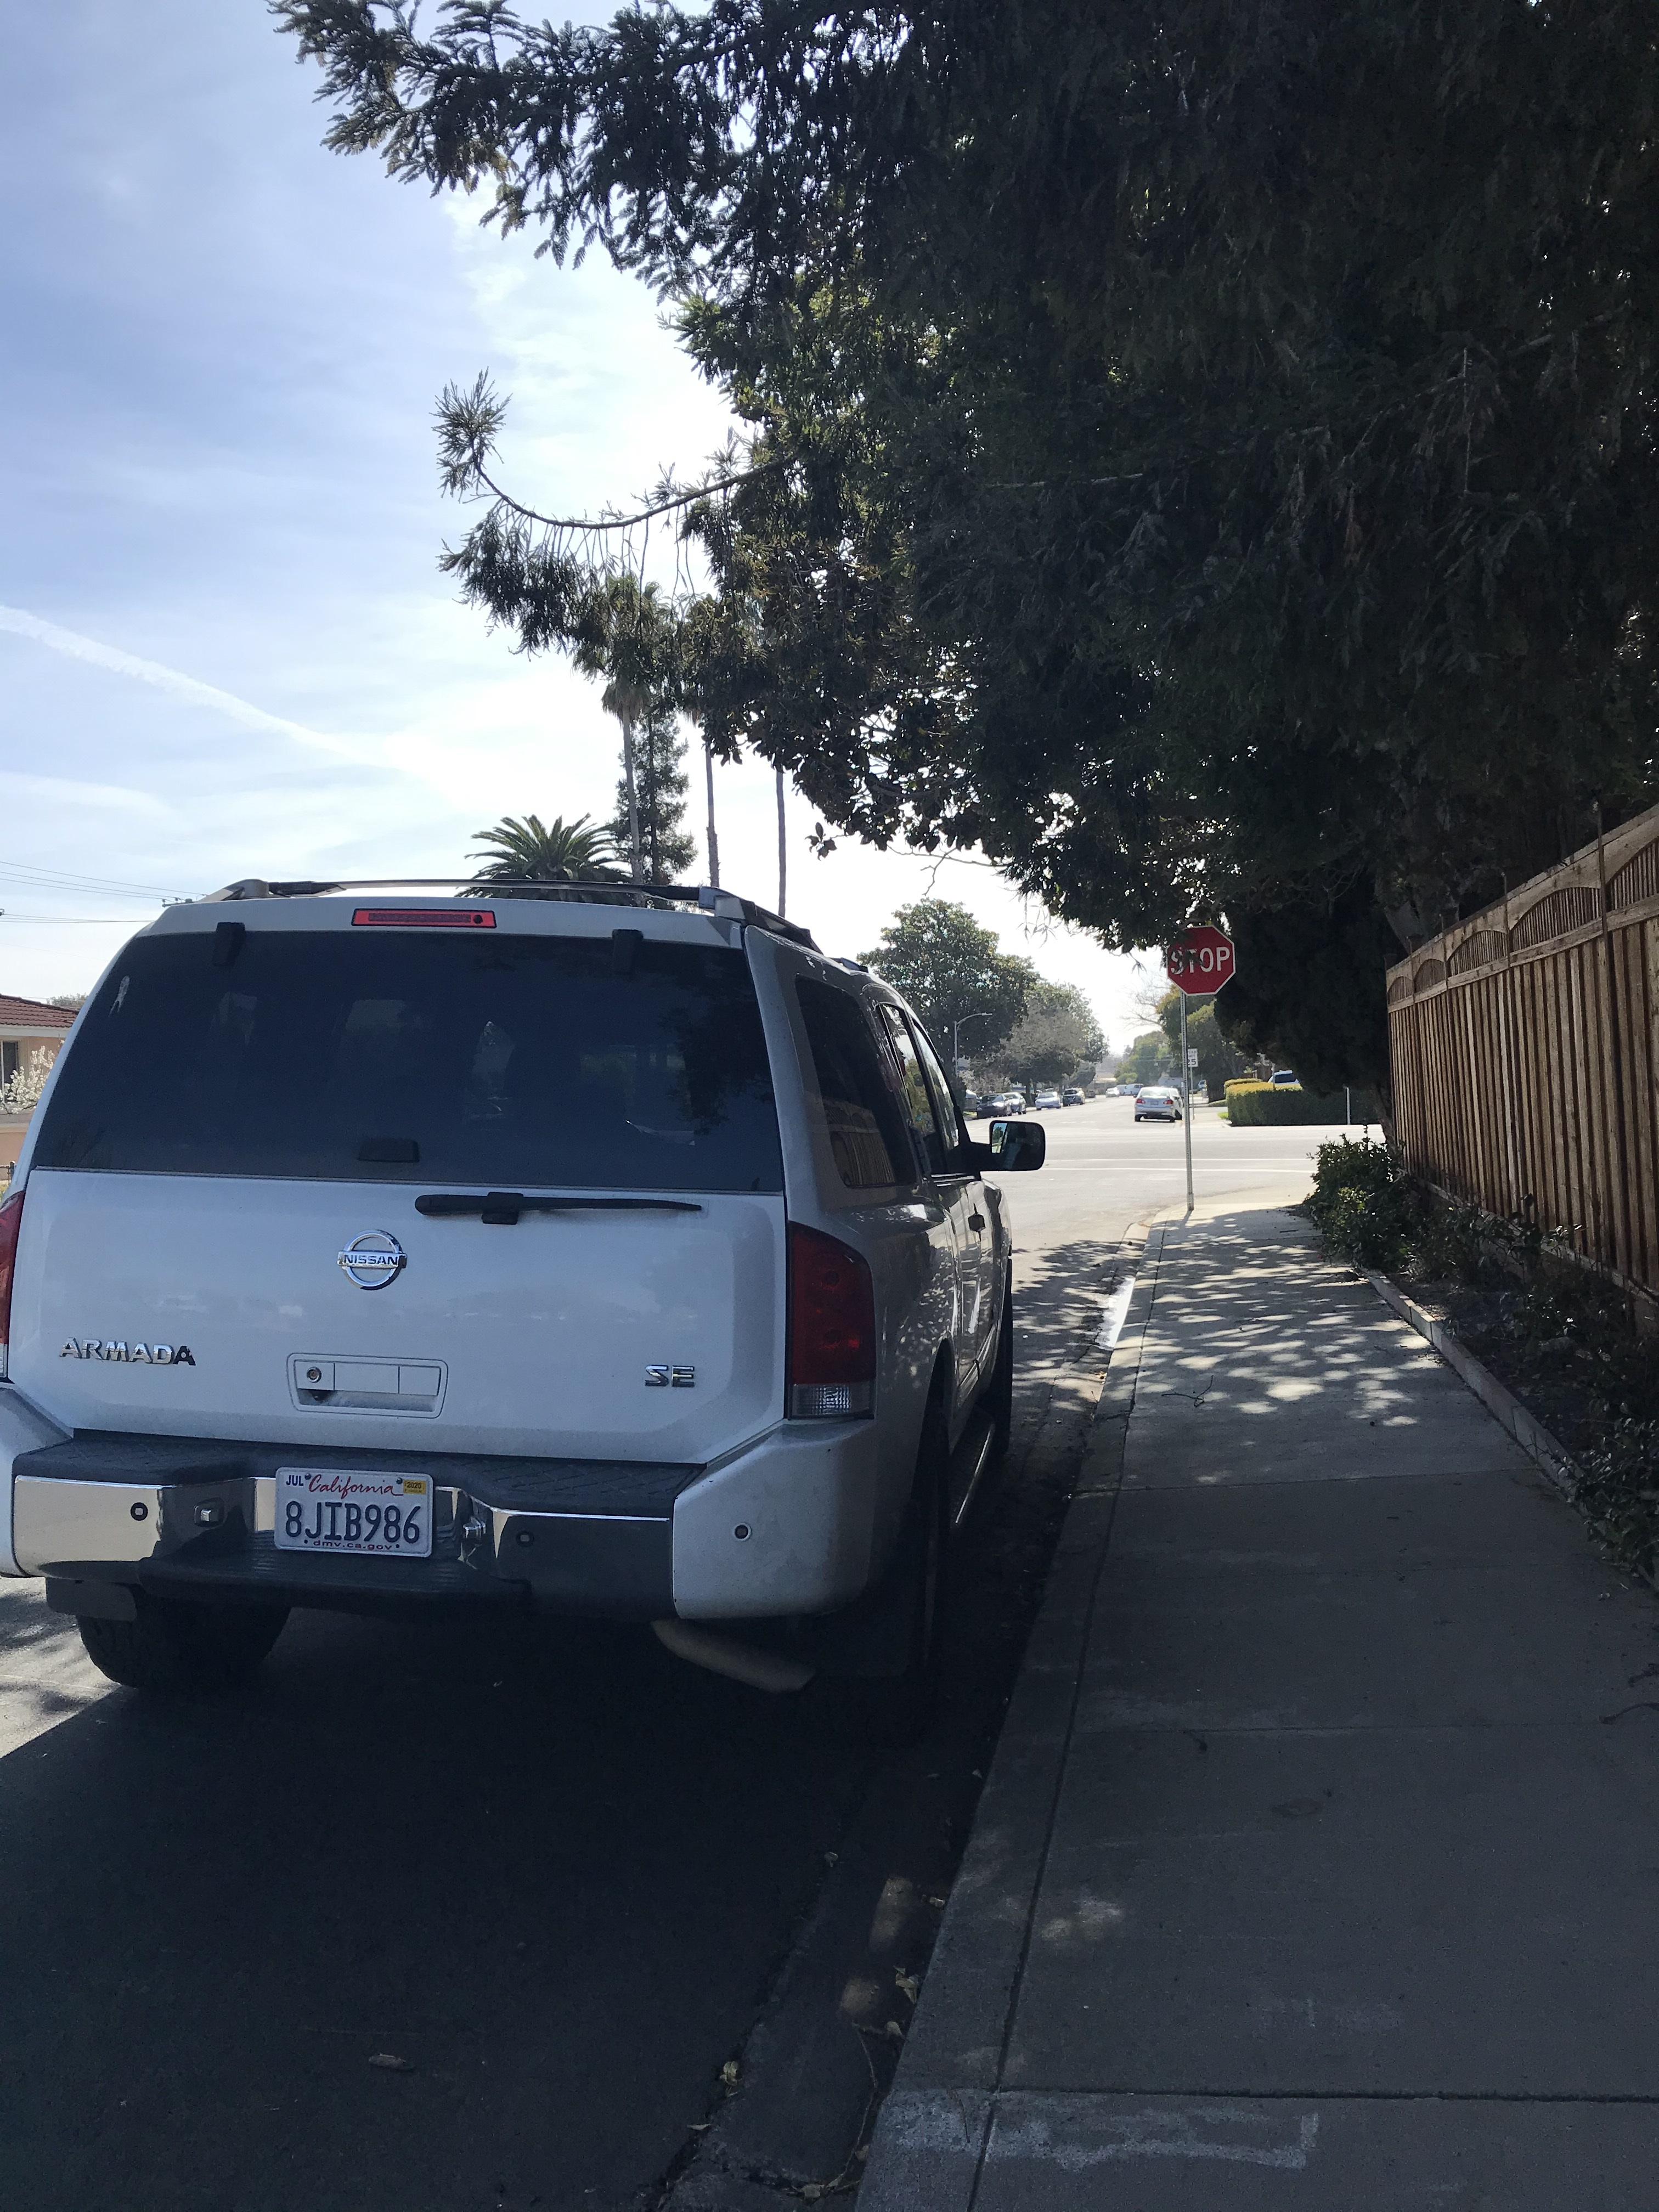stop_sign: (1161, 920, 1243, 998)
